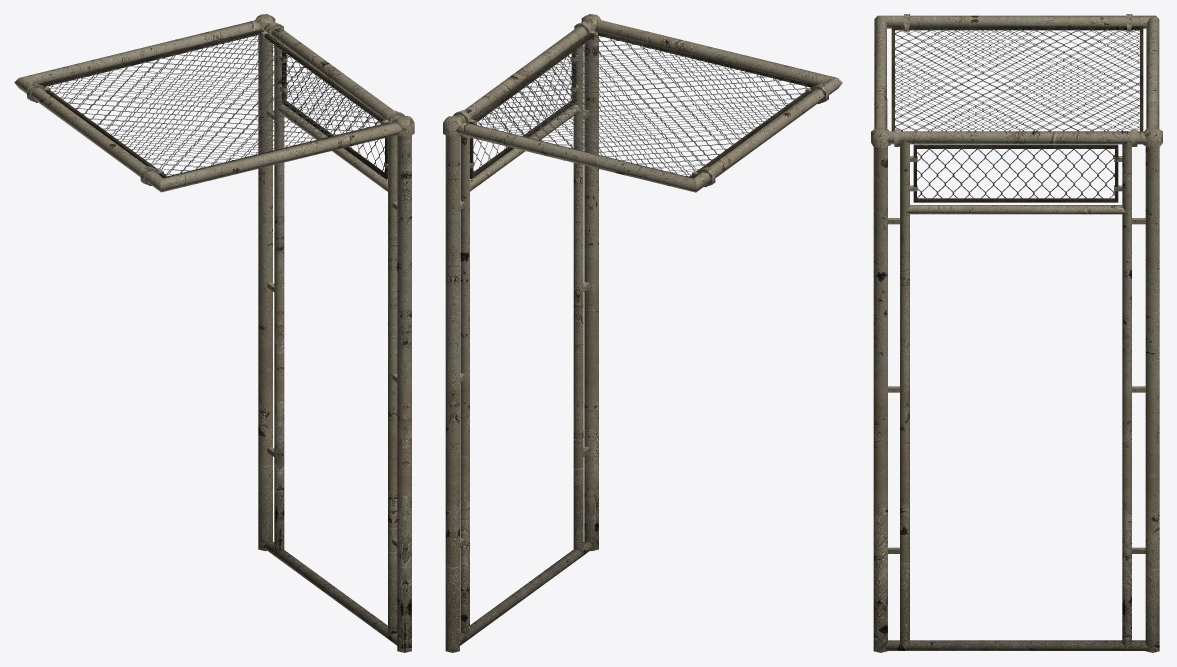
Rendered from interior_fence001e.glb.
3 renders of one model, left to right at view 1: azimuth 30°, elevation 25°; view 2: azimuth 150°, elevation 25°; view 3: azimuth 270°, elevation 25°, orthographic. The views are drawn at different scales.
Parts seen in each view (by area): view 1: 0_prison_yard001, 1_fence_alpha; view 2: 0_prison_yard001, 1_fence_alpha; view 3: 0_prison_yard001, 1_fence_alpha.
Part boxes in pixels (x1,y1,x2,y2): 0_prison_yard001: (14,14,414,652); 1_fence_alpha: (45,33,384,175); 0_prison_yard001: (443,14,842,652); 1_fence_alpha: (473,35,809,176); 0_prison_yard001: (871,14,1162,652); 1_fence_alpha: (895,28,1139,198).
Bounding box in the file's own units: 1.66 × 3.27 × 1.66.
2 materials, 2 textured.
